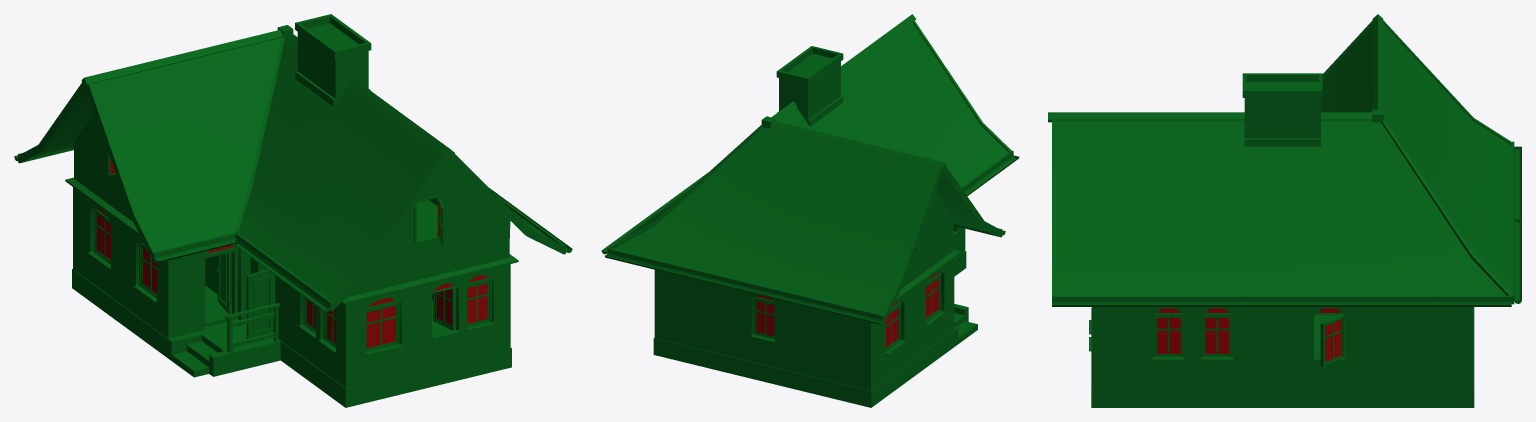
The model's file is official.fbx.
The picture shows the model from 3 angles, left to right: view 1: azimuth 30°, elevation 25°; view 2: azimuth 150°, elevation 25°; view 3: azimuth 270°, elevation 25°; orthographic projection. The views are drawn at different scales.
Parts seen in each view (by area): view 1: dach, DOL, pietro, OKNO; view 2: dach, DOL, pietro, OKNO; view 3: dach, DOL, OKNO.
Part boxes in pixels (x1,y1,x2,y2): dach: (14, 14, 572, 311); DOL: (72, 187, 511, 407); pietro: (65, 112, 518, 304); OKNO: (96, 158, 487, 348); dach: (601, 14, 1019, 324); DOL: (653, 226, 977, 407); pietro: (895, 192, 960, 300); OKNO: (756, 272, 938, 347); dach: (1048, 14, 1521, 306); DOL: (1089, 307, 1474, 407); OKNO: (1157, 308, 1341, 361).
Bounding box in the file's own units: 988 × 825 × 1242.
